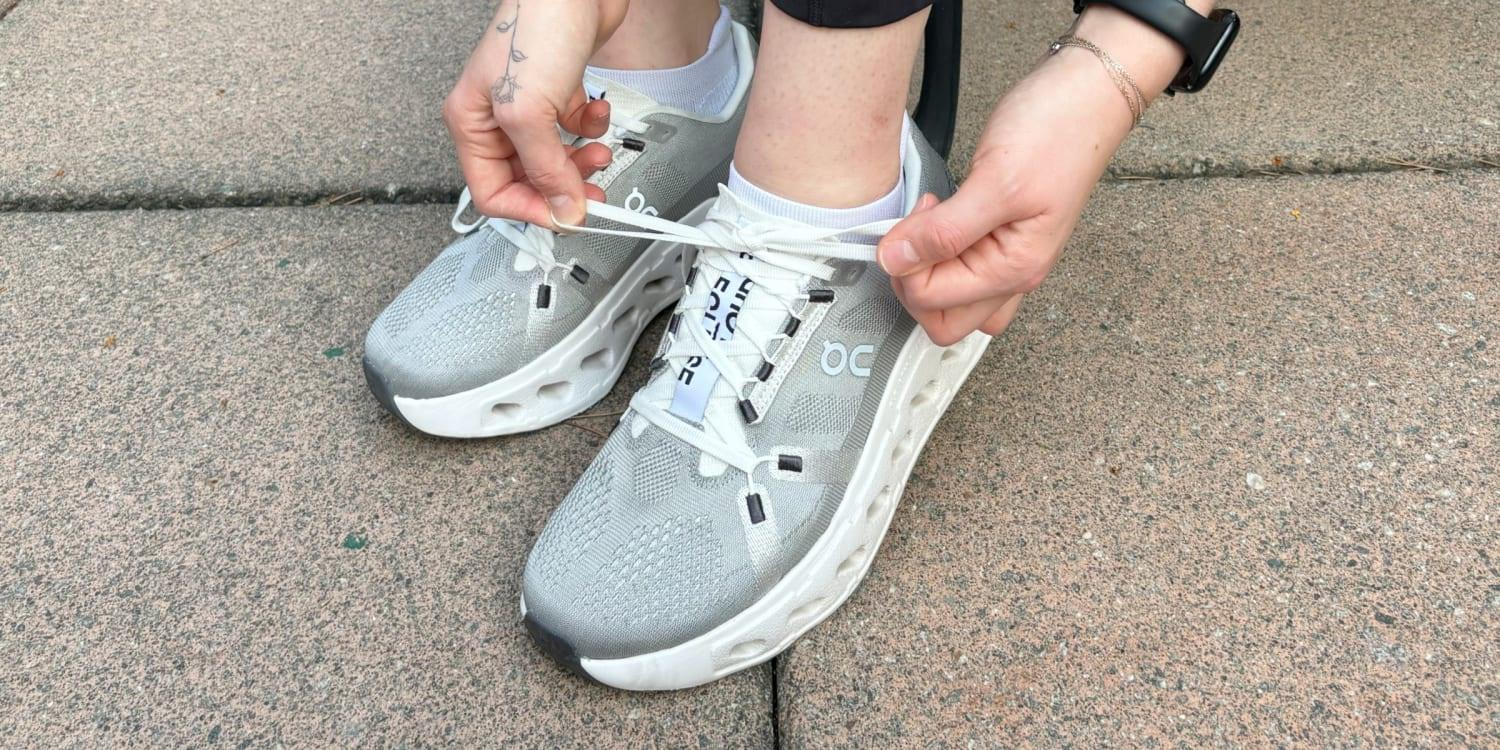OC_logo: (809, 327, 908, 401), (616, 172, 672, 229)
